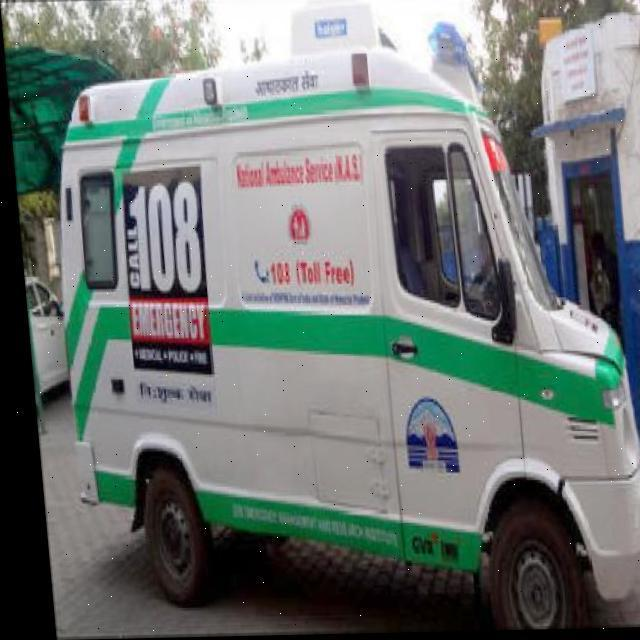Ambulance: (26, 0, 640, 638), (26, 359, 640, 638), (515, 9, 640, 482), (18, 267, 68, 434)
